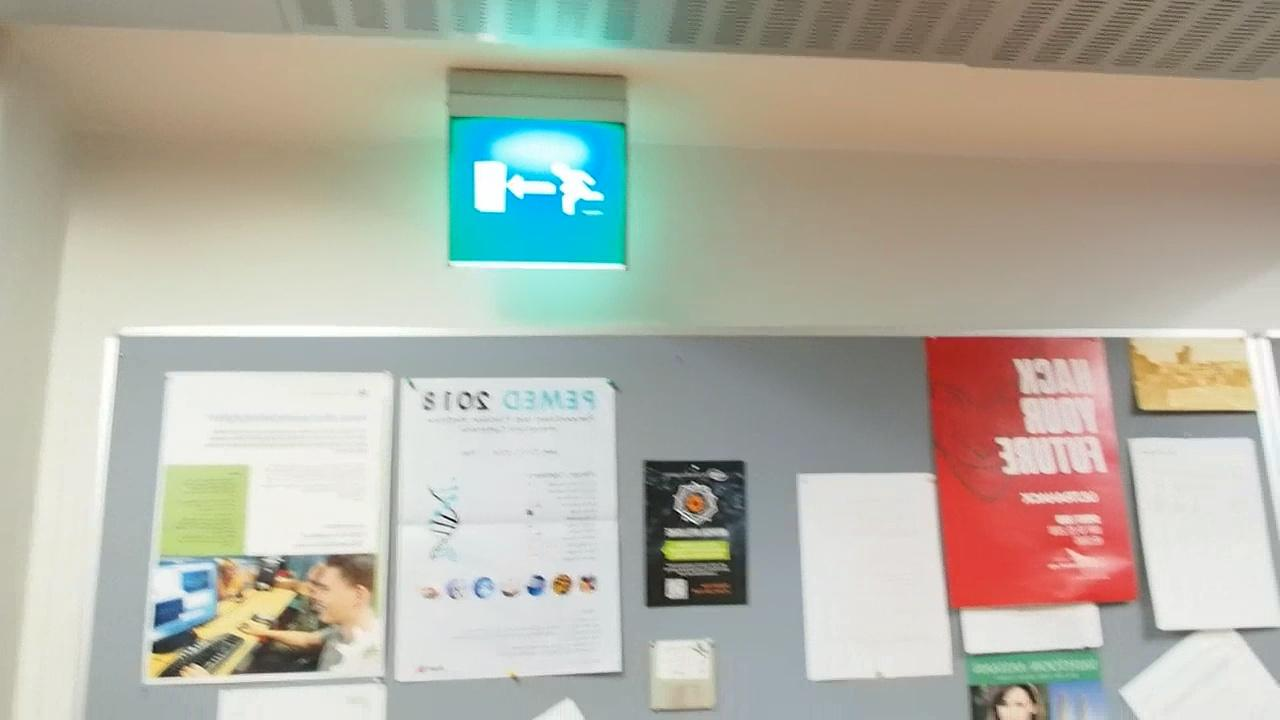exit: (442, 109, 634, 266)
